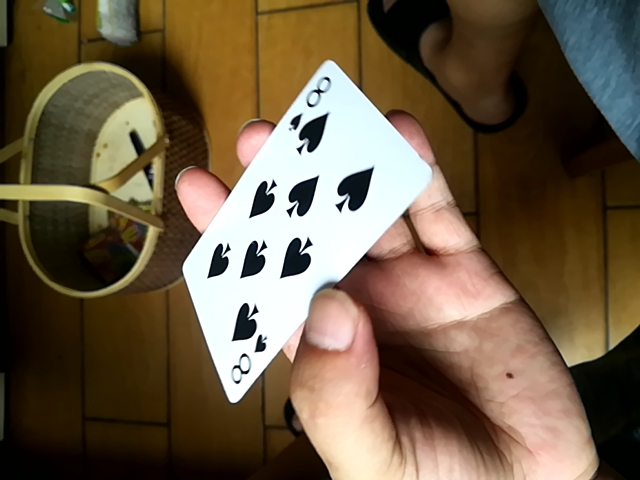ht 8: (179, 59, 429, 408)
